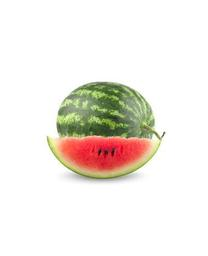watermelon: (46, 82, 160, 178)
